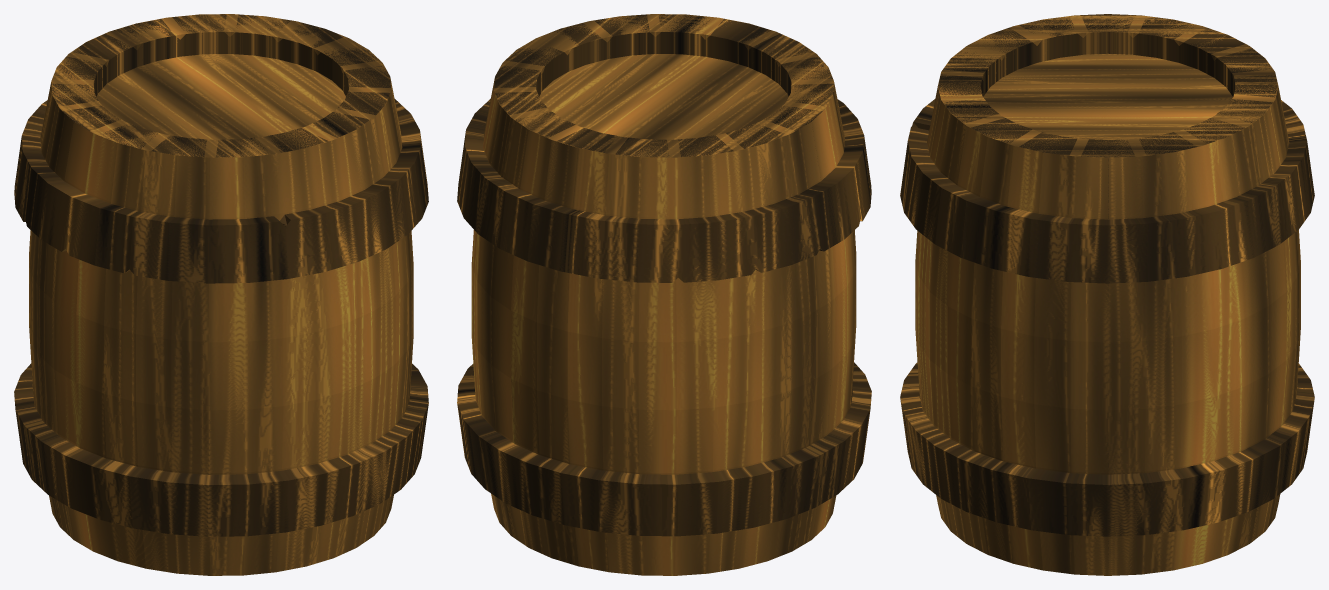
Rendered from BarrelVersions5.fbx.
3 renders of one model, left to right at view 1: azimuth 30°, elevation 25°; view 2: azimuth 150°, elevation 25°; view 3: azimuth 270°, elevation 25°, orthographic.
Parts seen in each view (by area): view 1: Cylinder.001, Cylinder; view 2: Cylinder.001, Cylinder; view 3: Cylinder.001, Cylinder.
Boxes of the visible parts, box(x1,y1,x2,y2) form: Cylinder.001: box(29, 14, 413, 575); Cylinder: box(14, 14, 428, 536); Cylinder.001: box(471, 14, 856, 575); Cylinder: box(457, 14, 871, 536); Cylinder.001: box(915, 14, 1300, 575); Cylinder: box(900, 14, 1314, 567).
Bounding box in the file's own units: 514 × 571 × 513.
